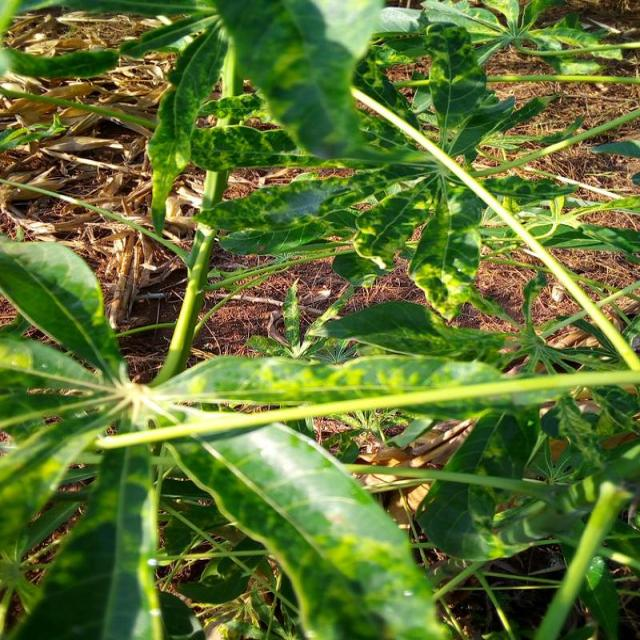cassava leaf: (158, 408, 448, 638), (211, 0, 384, 161), (0, 232, 126, 385)
